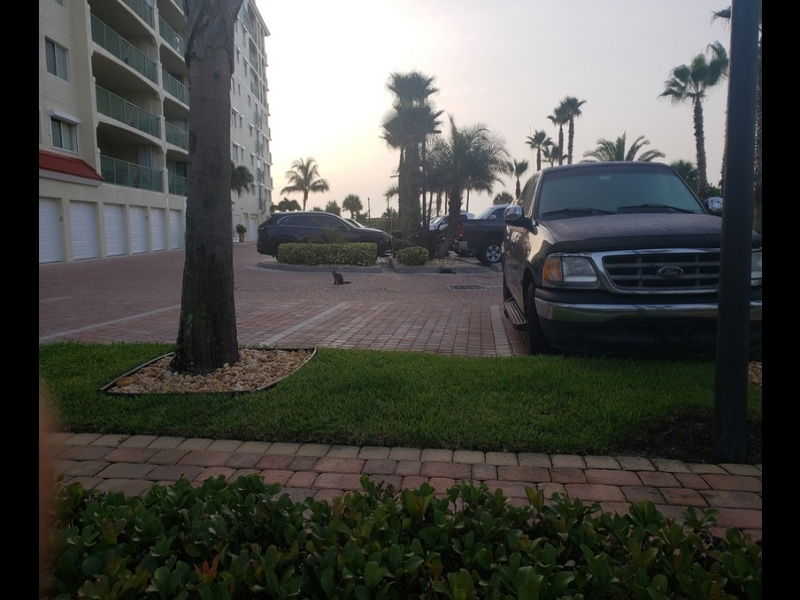cat: (330, 268, 350, 286)
